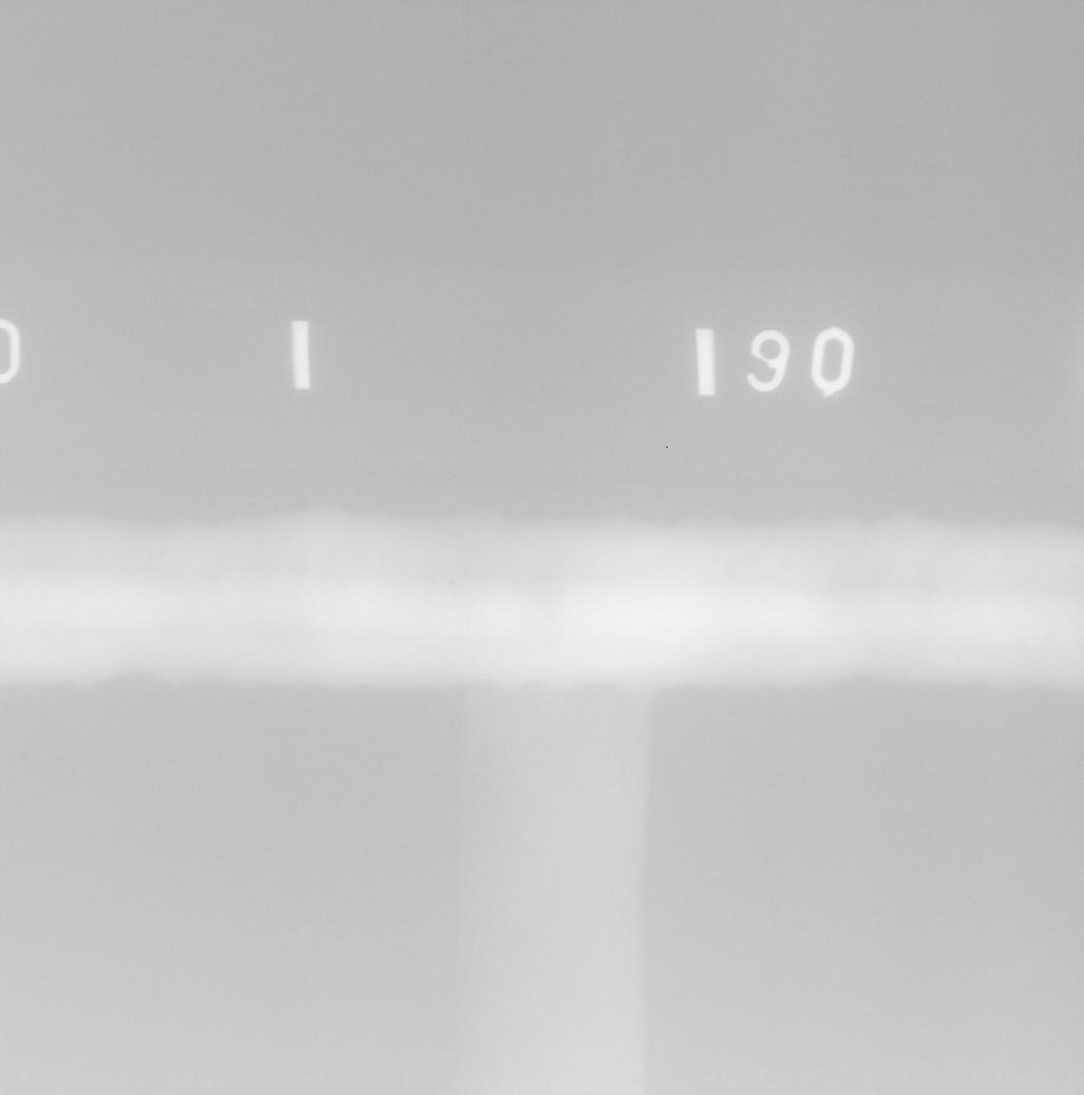Pore/Porosity: (449, 581, 453, 584)
